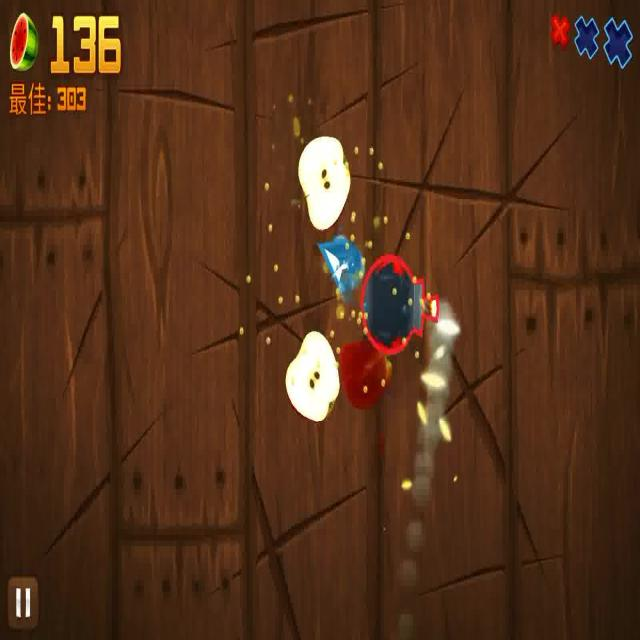bomb: (357, 255, 445, 358)
fruit: (294, 137, 351, 230), (285, 332, 339, 422), (340, 338, 388, 407)
